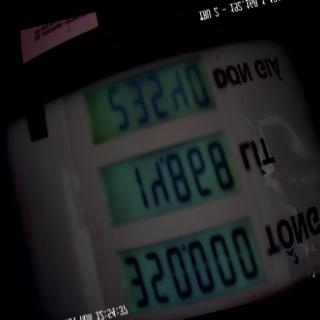screen: (62, 27, 274, 320)
